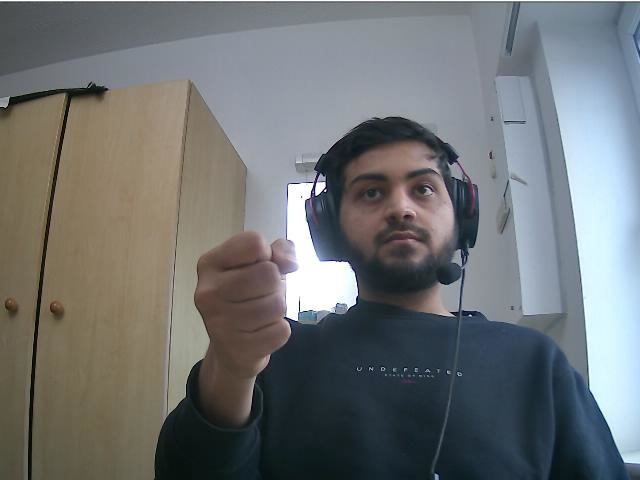hold: (191, 229, 299, 372)
